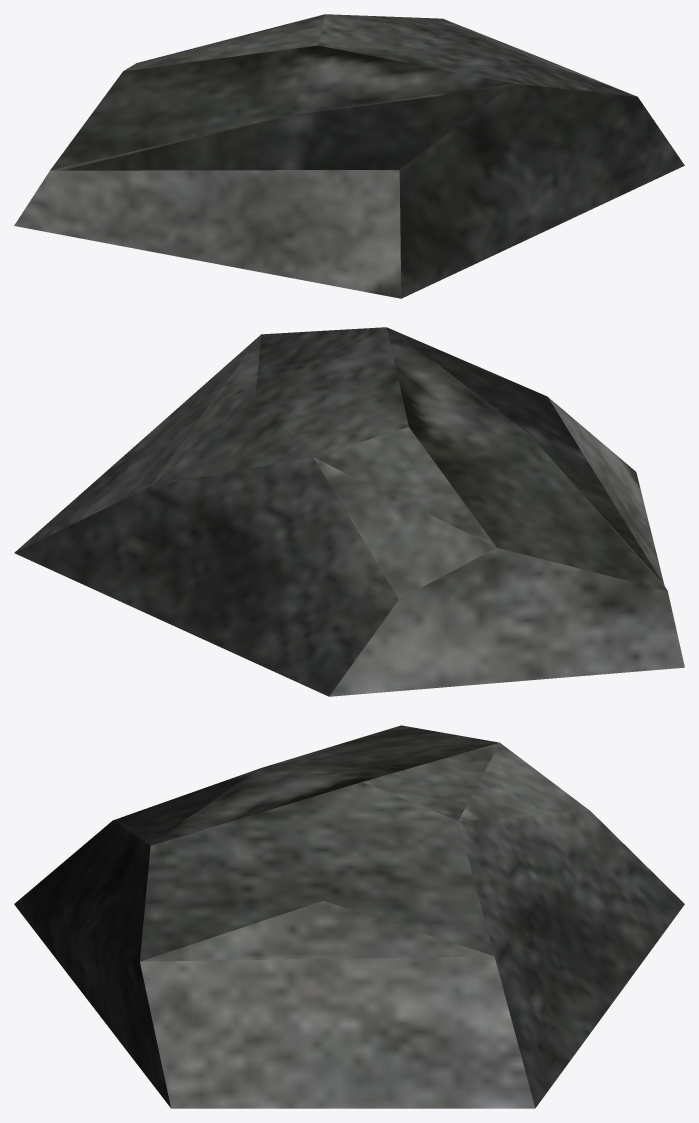
Rendered from Rock_v6.fbx.
The picture shows the model from 3 angles, top to bottom: view 1: azimuth 30°, elevation 25°; view 2: azimuth 150°, elevation 25°; view 3: azimuth 270°, elevation 25°; orthographic projection. The views are drawn at different scales.
Parts seen in each view (by area): view 1: Rock6; view 2: Rock6; view 3: Rock6.
Part boxes in pixels (x1,y1,x2,y2): Rock6: [14, 14, 684, 298]; Rock6: [14, 327, 684, 696]; Rock6: [14, 725, 684, 1108].
Bounding box in the file's own units: 113 × 25.25 × 96.98.
